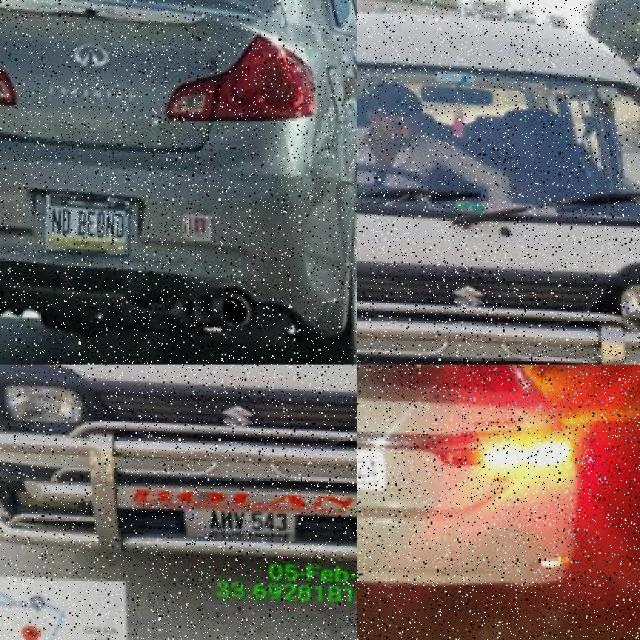licenseplate: (178, 496, 304, 544), (45, 187, 130, 255), (357, 436, 423, 496)
